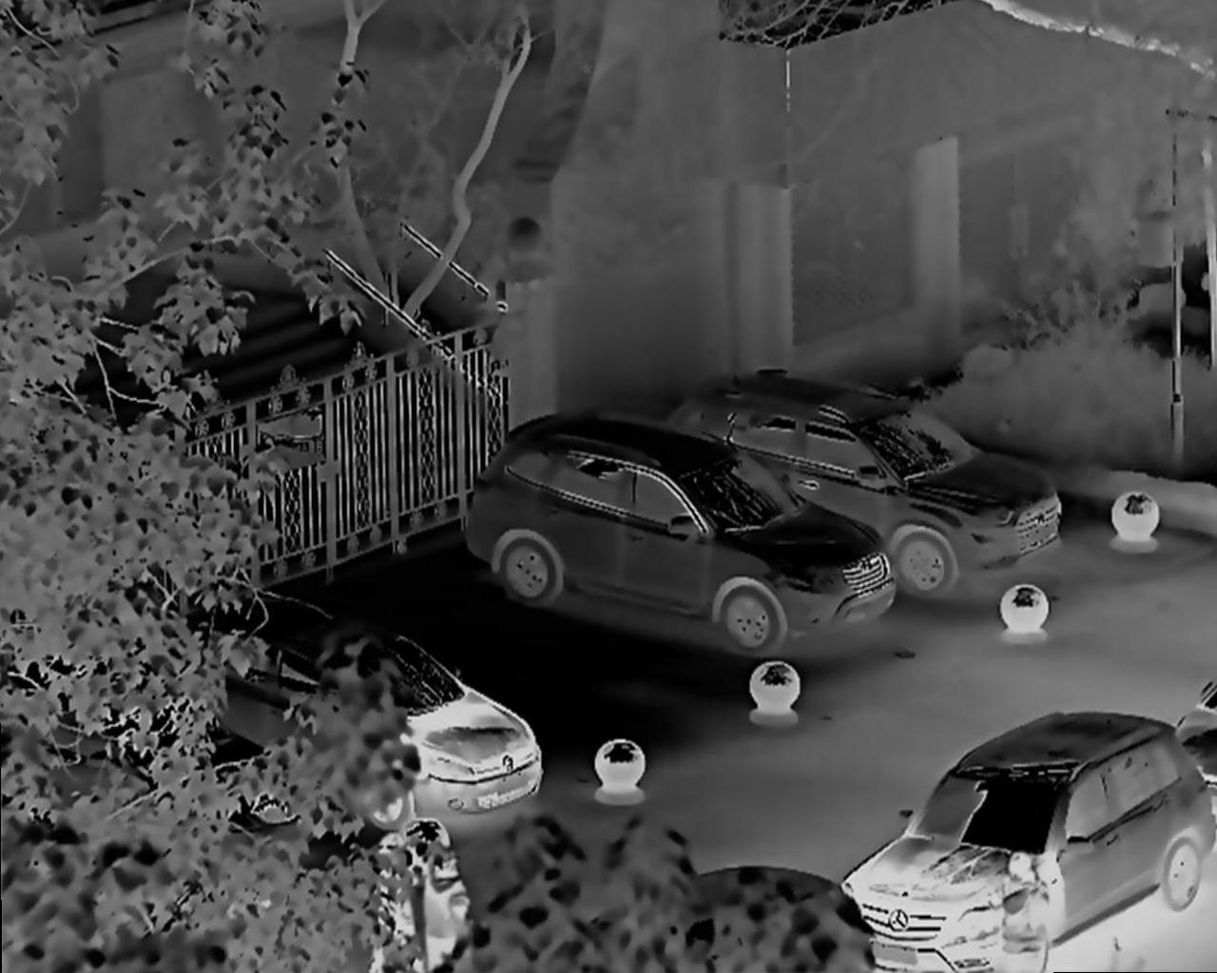person: (1012, 842, 1064, 970), (421, 850, 471, 973), (374, 830, 416, 969)
